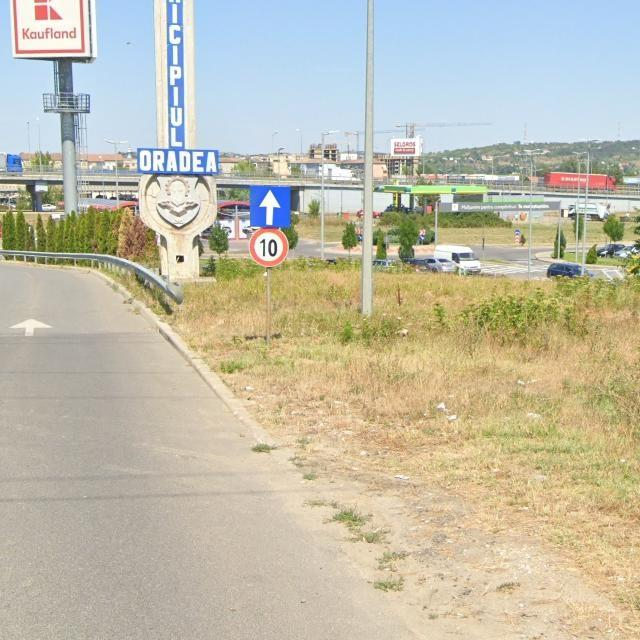forb_speed_over_10: (250, 228, 289, 266)
